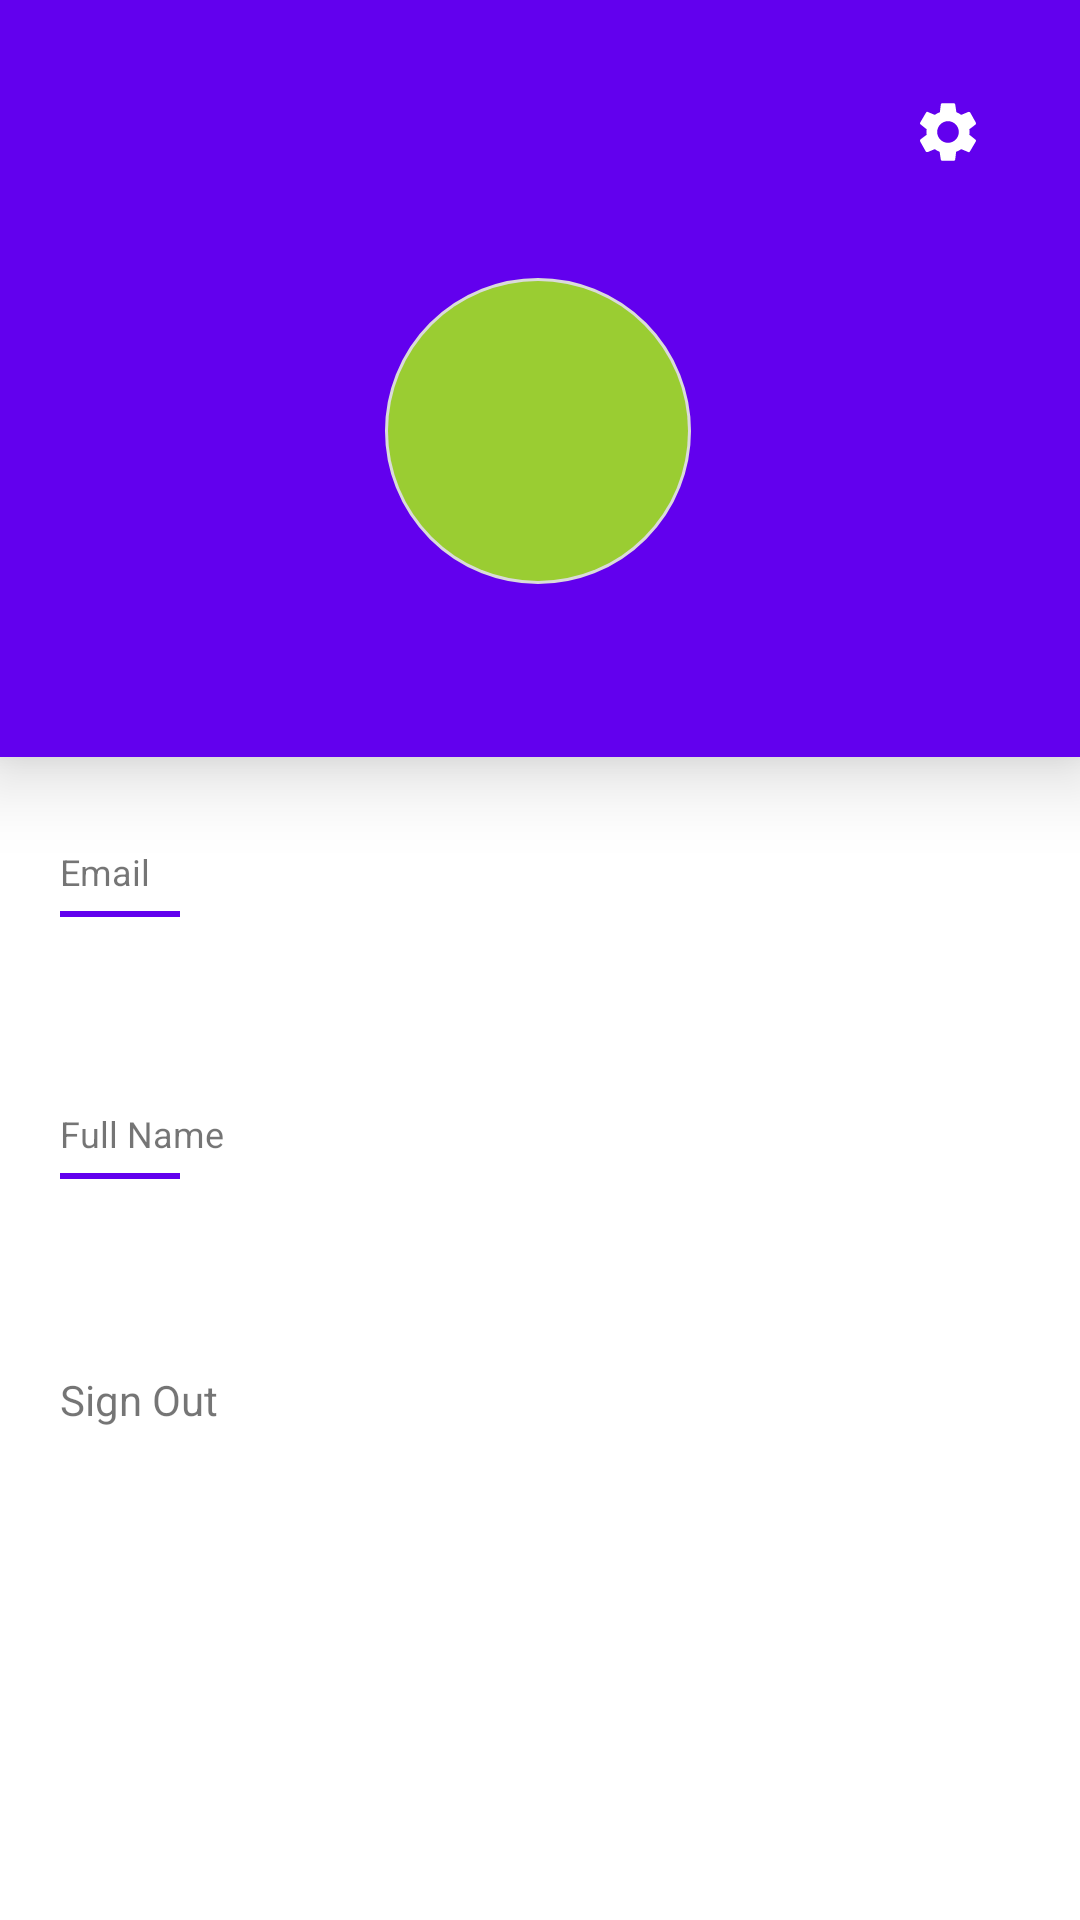

Locate icon controls on the screen. Image size 1080 x 1920, boxes as (x1, y1, x2, y2).
settings: (920, 103, 976, 161)
